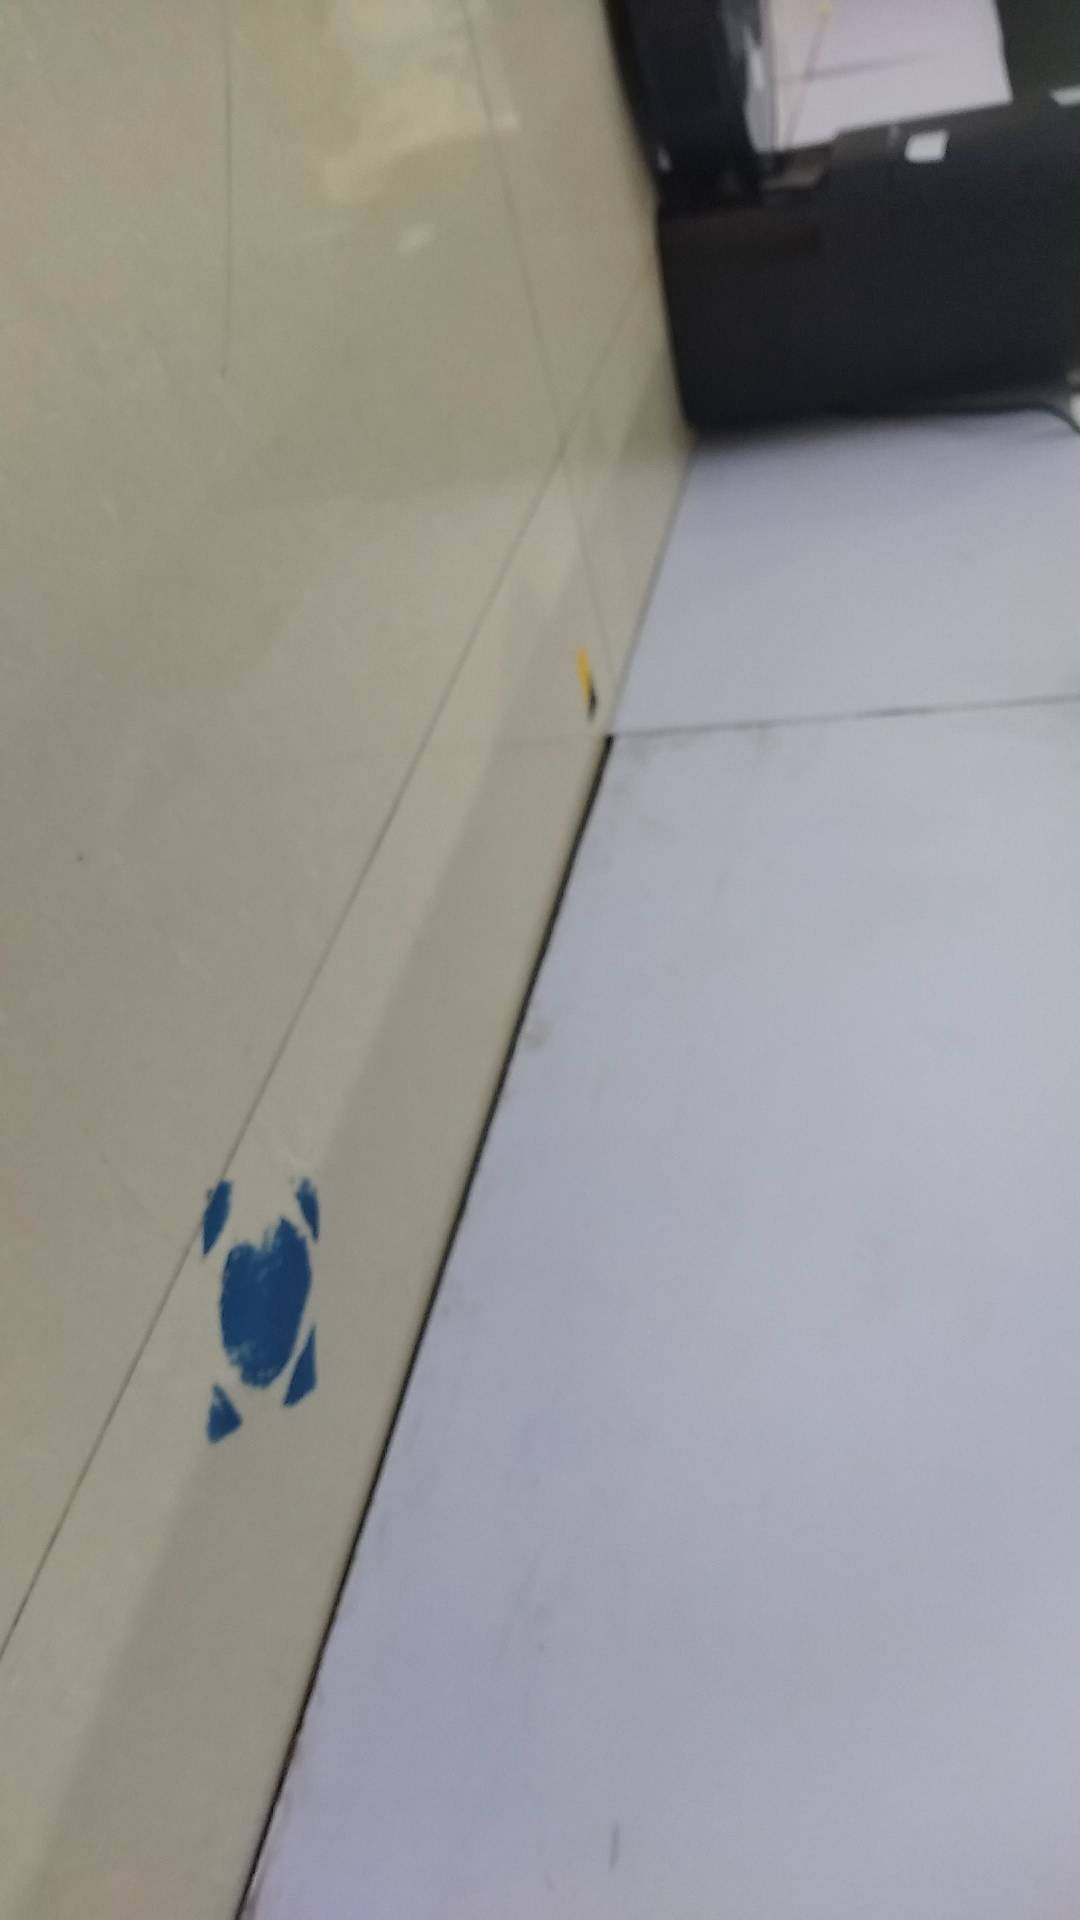dust collecting barrel: (655, 102, 1080, 448)
